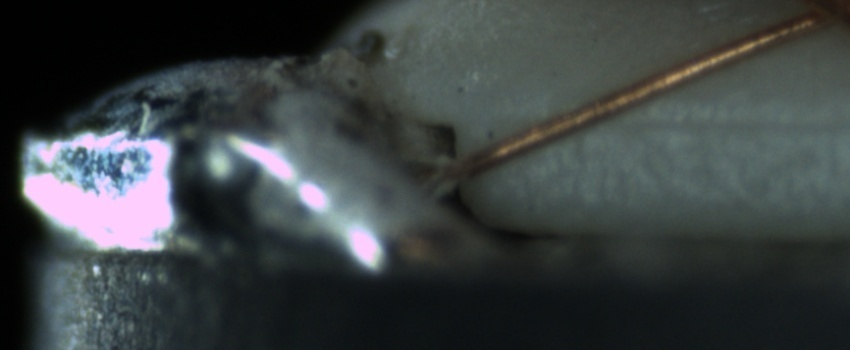CL: (766, 1, 846, 41)
DL: (568, 88, 846, 155)
